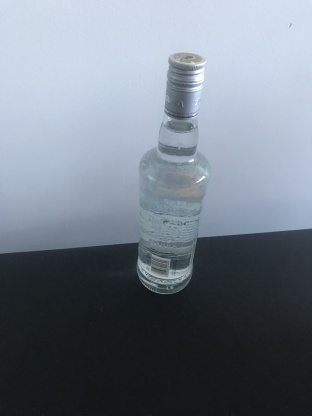nakretka: (162, 50, 207, 121)
